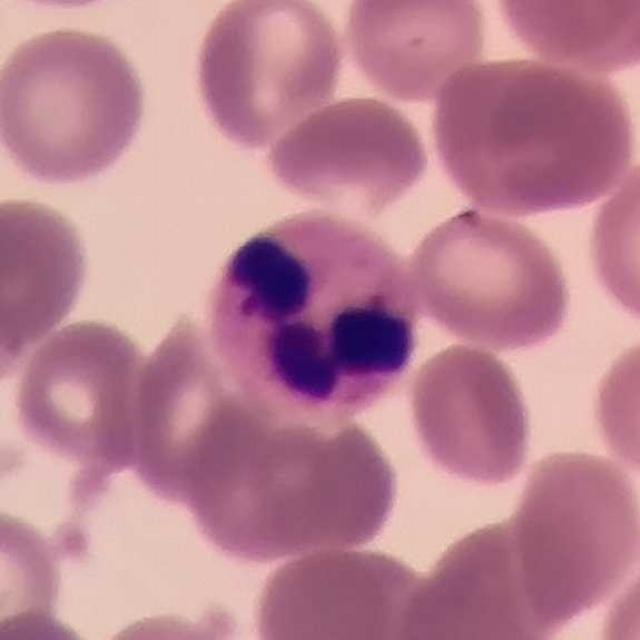Neutrophil: (198, 202, 429, 425)
RBC: (198, 202, 430, 424), (426, 52, 640, 218), (178, 409, 405, 562), (0, 20, 154, 193), (126, 312, 262, 505), (400, 204, 576, 353), (187, 0, 349, 154), (506, 442, 640, 627), (8, 314, 161, 472), (393, 518, 578, 640), (261, 91, 435, 217), (403, 338, 538, 493), (246, 541, 445, 639), (337, 0, 494, 104), (0, 190, 96, 358), (488, 0, 640, 72), (582, 151, 640, 334), (388, 584, 568, 640), (0, 501, 69, 639), (584, 328, 640, 488), (86, 603, 257, 640), (0, 229, 29, 404), (592, 550, 640, 640), (0, 604, 111, 639), (0, 0, 166, 17)
